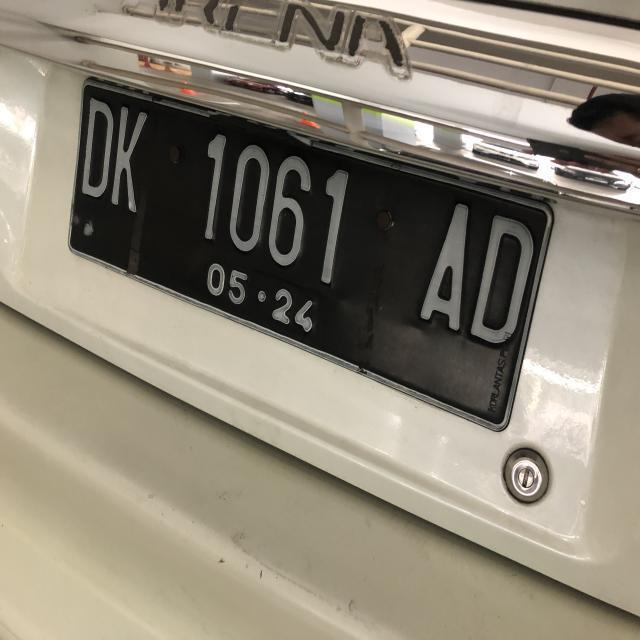0: (227, 131, 266, 253)
1: (323, 162, 352, 292), (200, 129, 226, 239)
6: (269, 153, 306, 277)
A: (422, 210, 466, 326)
D: (473, 218, 537, 352), (83, 100, 116, 199)
K: (118, 100, 144, 213)
